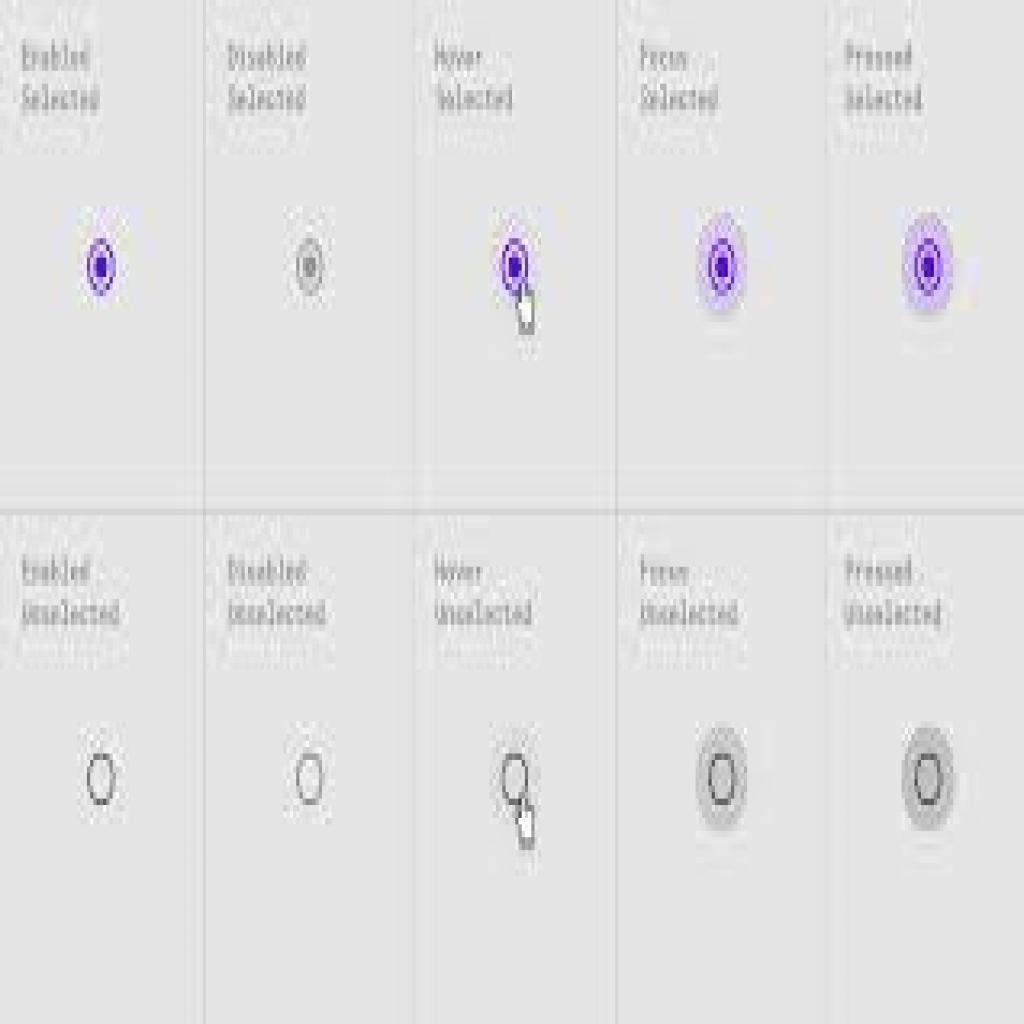radio: (903, 207, 964, 325), (901, 727, 960, 841), (698, 215, 755, 332), (75, 209, 131, 320), (696, 726, 754, 833), (279, 218, 341, 317), (482, 730, 552, 816), (280, 720, 335, 828), (76, 723, 130, 832), (496, 219, 542, 315)
